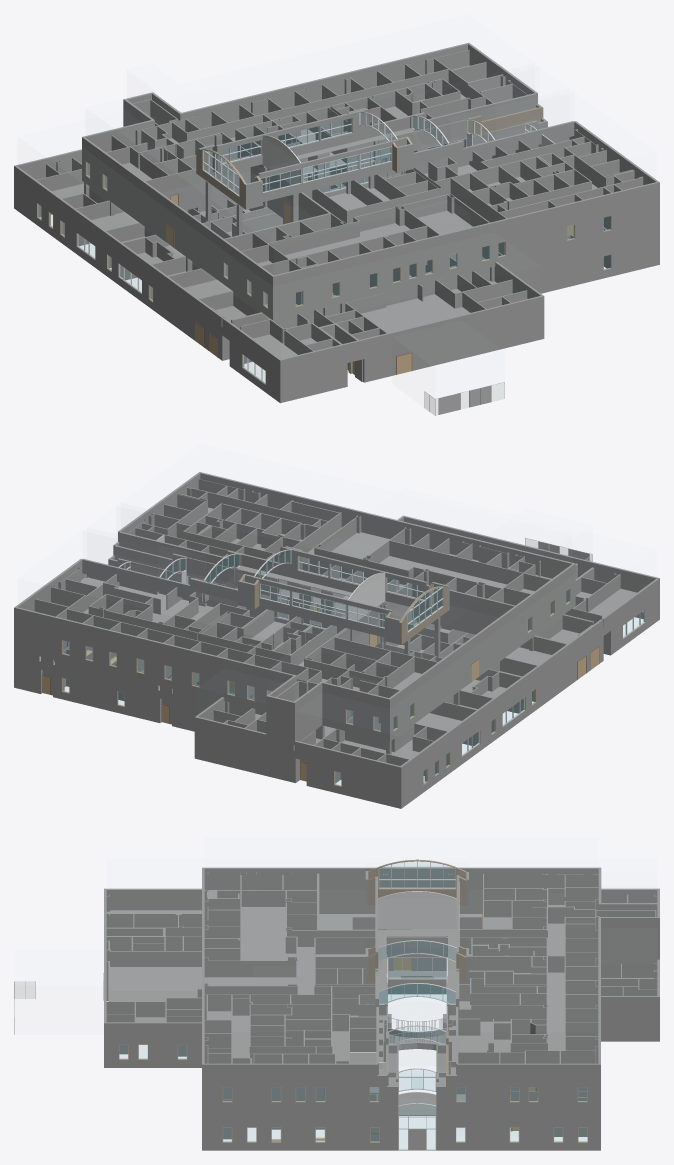
The picture shows the model from 3 angles, top to bottom: view 1: azimuth 30°, elevation 25°; view 2: azimuth 150°, elevation 25°; view 3: azimuth 270°, elevation 25°; orthographic projection. The views are drawn at different scales.
Visible parts, largest first — view 1: 3LbNSBzHHBSuzhUUvuwAbw, 3LbNSBzHHBSuzhUUvuwBdQ, 3LbNSBzHHBSuzhUUvuwARp, 3LbNSBzHHBSuzhUUvuwBYQ, 3LbNSBzHHBSuzhUUvuwAJL, 3LbNSBzHHBSuzhUUvuwBG4, 0$T_kKFfj6eQu9LjJc1L4V, 35QeWibpT4DfyH3NIf2o$C, 2j55VthSj3Lu0J6fyrpG5t, 2$JMvrgrHFRuiT5gJ_sd8v, 3NhaIUfh12PAdrGa$S3ymK, 2_TmT90dD0x8tJSTjyTb4R (+35 smaller); view 2: 3LbNSBzHHBSuzhUUvuwAJL, 3LbNSBzHHBSuzhUUvuwARp, 3LbNSBzHHBSuzhUUvuwAbw, 3LbNSBzHHBSuzhUUvuwB0x, 3LbNSBzHHBSuzhUUvuwBEp, 3LbNSBzHHBSuzhUUvuwBG4, 3LbNSBzHHBSuzhUUvuwB4_, 3LbNSBzHHBSuzhUUvuwAOJ, 0$T_kKFfj6eQu9LjJc1L4V, 3LbNSBzHHBSuzhUUvuwBdQ, 3NhaIUfh12PAdrGa$S3xYT, 35QeWibpT4DfyH3NIf2o$C (+36 smaller); view 3: 3LbNSBzHHBSuzhUUvuwARp, 3LbNSBzHHBSuzhUUvuwAYU, 0otfaO0qPDAhynjJ6DnL_y, 3LbNSBzHHBSuzhUUvuwAes, 3LbNSBzHHBSuzhUUvuwBiP, 3LbNSBzHHBSuzhUUvuwBWM, 2_TmT90dD0x8tJSTjyTb4R, 0lHL5LPIr3RuynIxjjrPON, 3LbNSBzHHBSuzhUUvuwBLq, 3LbNSBzHHBSuzhUUvuwATn, 0hfBjSvBD7Axm4HbiOC5aW, 2j55VthSj3Lu0J6fyrpHCf (+64 smaller).
Boxes of the visible parts, x1=… form: 3LbNSBzHHBSuzhUUvuwAbw: x1=271, y1=182, x2=657, y2=320; 3LbNSBzHHBSuzhUUvuwBdQ: x1=279, y1=296, x2=542, y2=403; 3LbNSBzHHBSuzhUUvuwARp: x1=82, y1=136, x2=273, y2=318; 3LbNSBzHHBSuzhUUvuwBYQ: x1=494, y1=226, x2=657, y2=293; 3LbNSBzHHBSuzhUUvuwAJL: x1=181, y1=43, x2=467, y2=129; 3LbNSBzHHBSuzhUUvuwBG4: x1=142, y1=259, x2=223, y2=359; 0$T_kKFfj6eQu9LjJc1L4V: x1=14, y1=165, x2=77, y2=253; 35QeWibpT4DfyH3NIf2o$C: x1=186, y1=69, x2=448, y2=140; 2j55VthSj3Lu0J6fyrpG5t: x1=258, y1=139, x2=399, y2=201; 2$JMvrgrHFRuiT5gJ_sd8v: x1=219, y1=110, x2=370, y2=173; 3NhaIUfh12PAdrGa$S3ymK: x1=145, y1=155, x2=250, y2=210; 2_TmT90dD0x8tJSTjyTb4R: x1=361, y1=294, x2=469, y2=332; 3LbNSBzHHBSuzhUUvuwAJL: x1=16, y1=607, x2=294, y2=711; 3LbNSBzHHBSuzhUUvuwARp: x1=388, y1=564, x2=574, y2=741; 3LbNSBzHHBSuzhUUvuwAbw: x1=200, y1=472, x2=575, y2=606; 3LbNSBzHHBSuzhUUvuwB0x: x1=306, y1=743, x2=399, y2=808; 3LbNSBzHHBSuzhUUvuwBEp: x1=55, y1=660, x2=159, y2=722; 3LbNSBzHHBSuzhUUvuwBG4: x1=523, y1=619, x2=603, y2=717; 3LbNSBzHHBSuzhUUvuwB4_: x1=197, y1=717, x2=267, y2=775; 3LbNSBzHHBSuzhUUvuwAOJ: x1=320, y1=681, x2=388, y2=741; 0$T_kKFfj6eQu9LjJc1L4V: x1=399, y1=722, x2=461, y2=808; 3LbNSBzHHBSuzhUUvuwBdQ: x1=404, y1=516, x2=659, y2=619; 3NhaIUfh12PAdrGa$S3xYT: x1=389, y1=540, x2=550, y2=591; 35QeWibpT4DfyH3NIf2o$C: x1=67, y1=609, x2=321, y2=681; 3LbNSBzHHBSuzhUUvuwARp: x1=204, y1=867, x2=601, y2=913; 3LbNSBzHHBSuzhUUvuwAYU: x1=202, y1=1063, x2=398, y2=1110; 0otfaO0qPDAhynjJ6DnL_y: x1=202, y1=1110, x2=398, y2=1150; 3LbNSBzHHBSuzhUUvuwAes: x1=436, y1=1063, x2=600, y2=1110; 3LbNSBzHHBSuzhUUvuwBiP: x1=436, y1=1110, x2=600, y2=1150; 3LbNSBzHHBSuzhUUvuwBWM: x1=104, y1=1022, x2=201, y2=1067; 2_TmT90dD0x8tJSTjyTb4R: x1=110, y1=967, x2=201, y2=1001; 0lHL5LPIr3RuynIxjjrPON: x1=378, y1=891, x2=456, y2=928; 3LbNSBzHHBSuzhUUvuwBLq: x1=601, y1=996, x2=659, y2=1041; 3LbNSBzHHBSuzhUUvuwATn: x1=598, y1=917, x2=657, y2=963; 0hfBjSvBD7Axm4HbiOC5aW: x1=241, y1=907, x2=296, y2=960; 2j55VthSj3Lu0J6fyrpHCf: x1=378, y1=929, x2=456, y2=1003.
Size of the model in its own units: 52.68 by 14.75 by 66.1.
